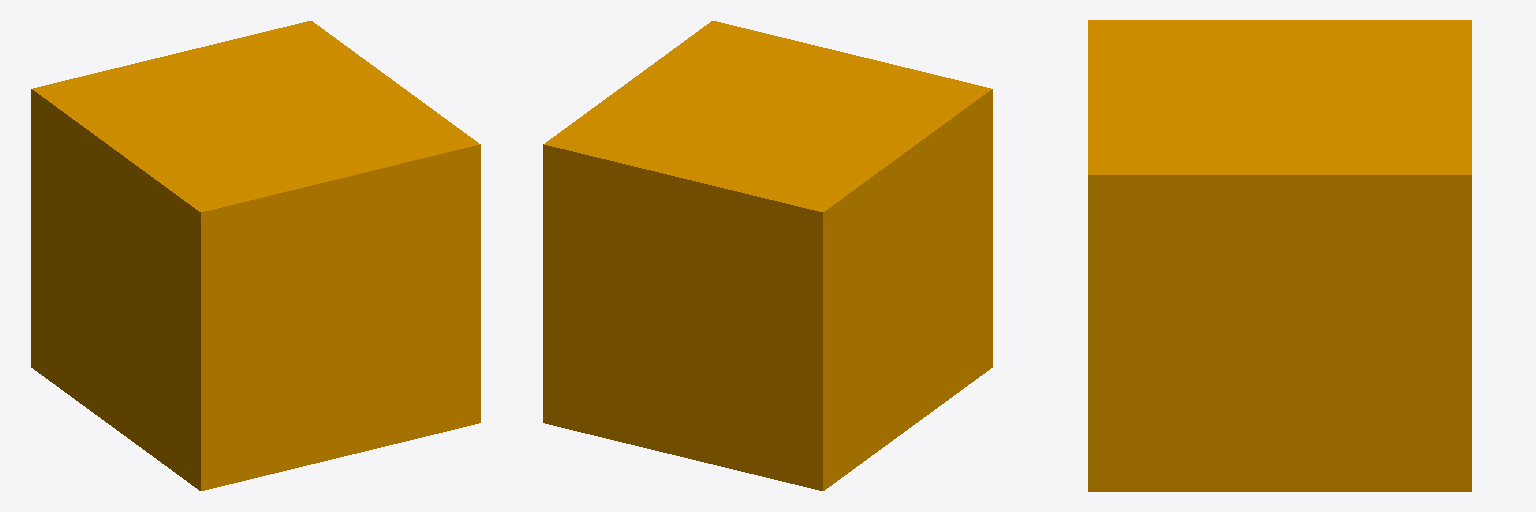
URDF robot description (object):
<robot name="object">
  <link name="object">
    <visual>
      <origin xyz="0 0 0" />
      <geometry>
        <box size="0.08400000000000002 0.08800000000000002 0.08" />
      </geometry>
    </visual>

    <collision>
      <origin xyz="0 0 0" />
      <geometry>
        <box size="0.08400000000000002 0.08800000000000002 0.08" />
      </geometry>
    </collision>

    <inertial>
      <mass value="0.05" />
      <inertia ixx="0.0001" ixy="0.0" ixz="0.0" iyy="0.0001" iyz="0.0" izz="0.0001" />
    </inertial>
  </link>
</robot>

--- Facts derived from the render (not from the file) ---
The picture shows the robot from 3 angles, left to right: view 1: azimuth 30°, elevation 25°; view 2: azimuth 150°, elevation 25°; view 3: azimuth 270°, elevation 25°; orthographic projection.
Robot: object — 1 links, 0 joints (none); root link object; default pose: every joint at zero.
Links seen in each view (by area): view 1: object; view 2: object; view 3: object.
Link boxes in pixels (bbox=[...]): object: bbox=[31, 21, 480, 490]; object: bbox=[543, 21, 992, 490]; object: bbox=[1088, 20, 1471, 491].
Bounding box of the posed robot: 0.084 × 0.088 × 0.08 m (x, y, z).
Geometry: primitives only (box / cylinder / sphere), no mesh files.